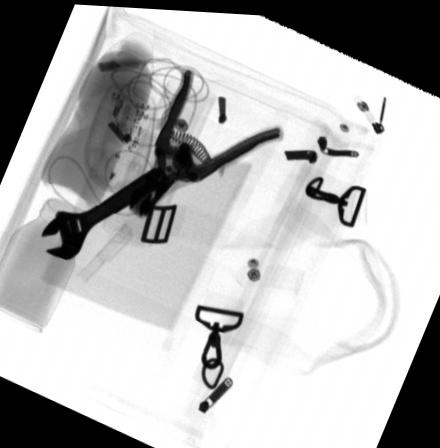Pliers: (124, 66, 285, 218)
Wrench: (39, 163, 166, 260)
